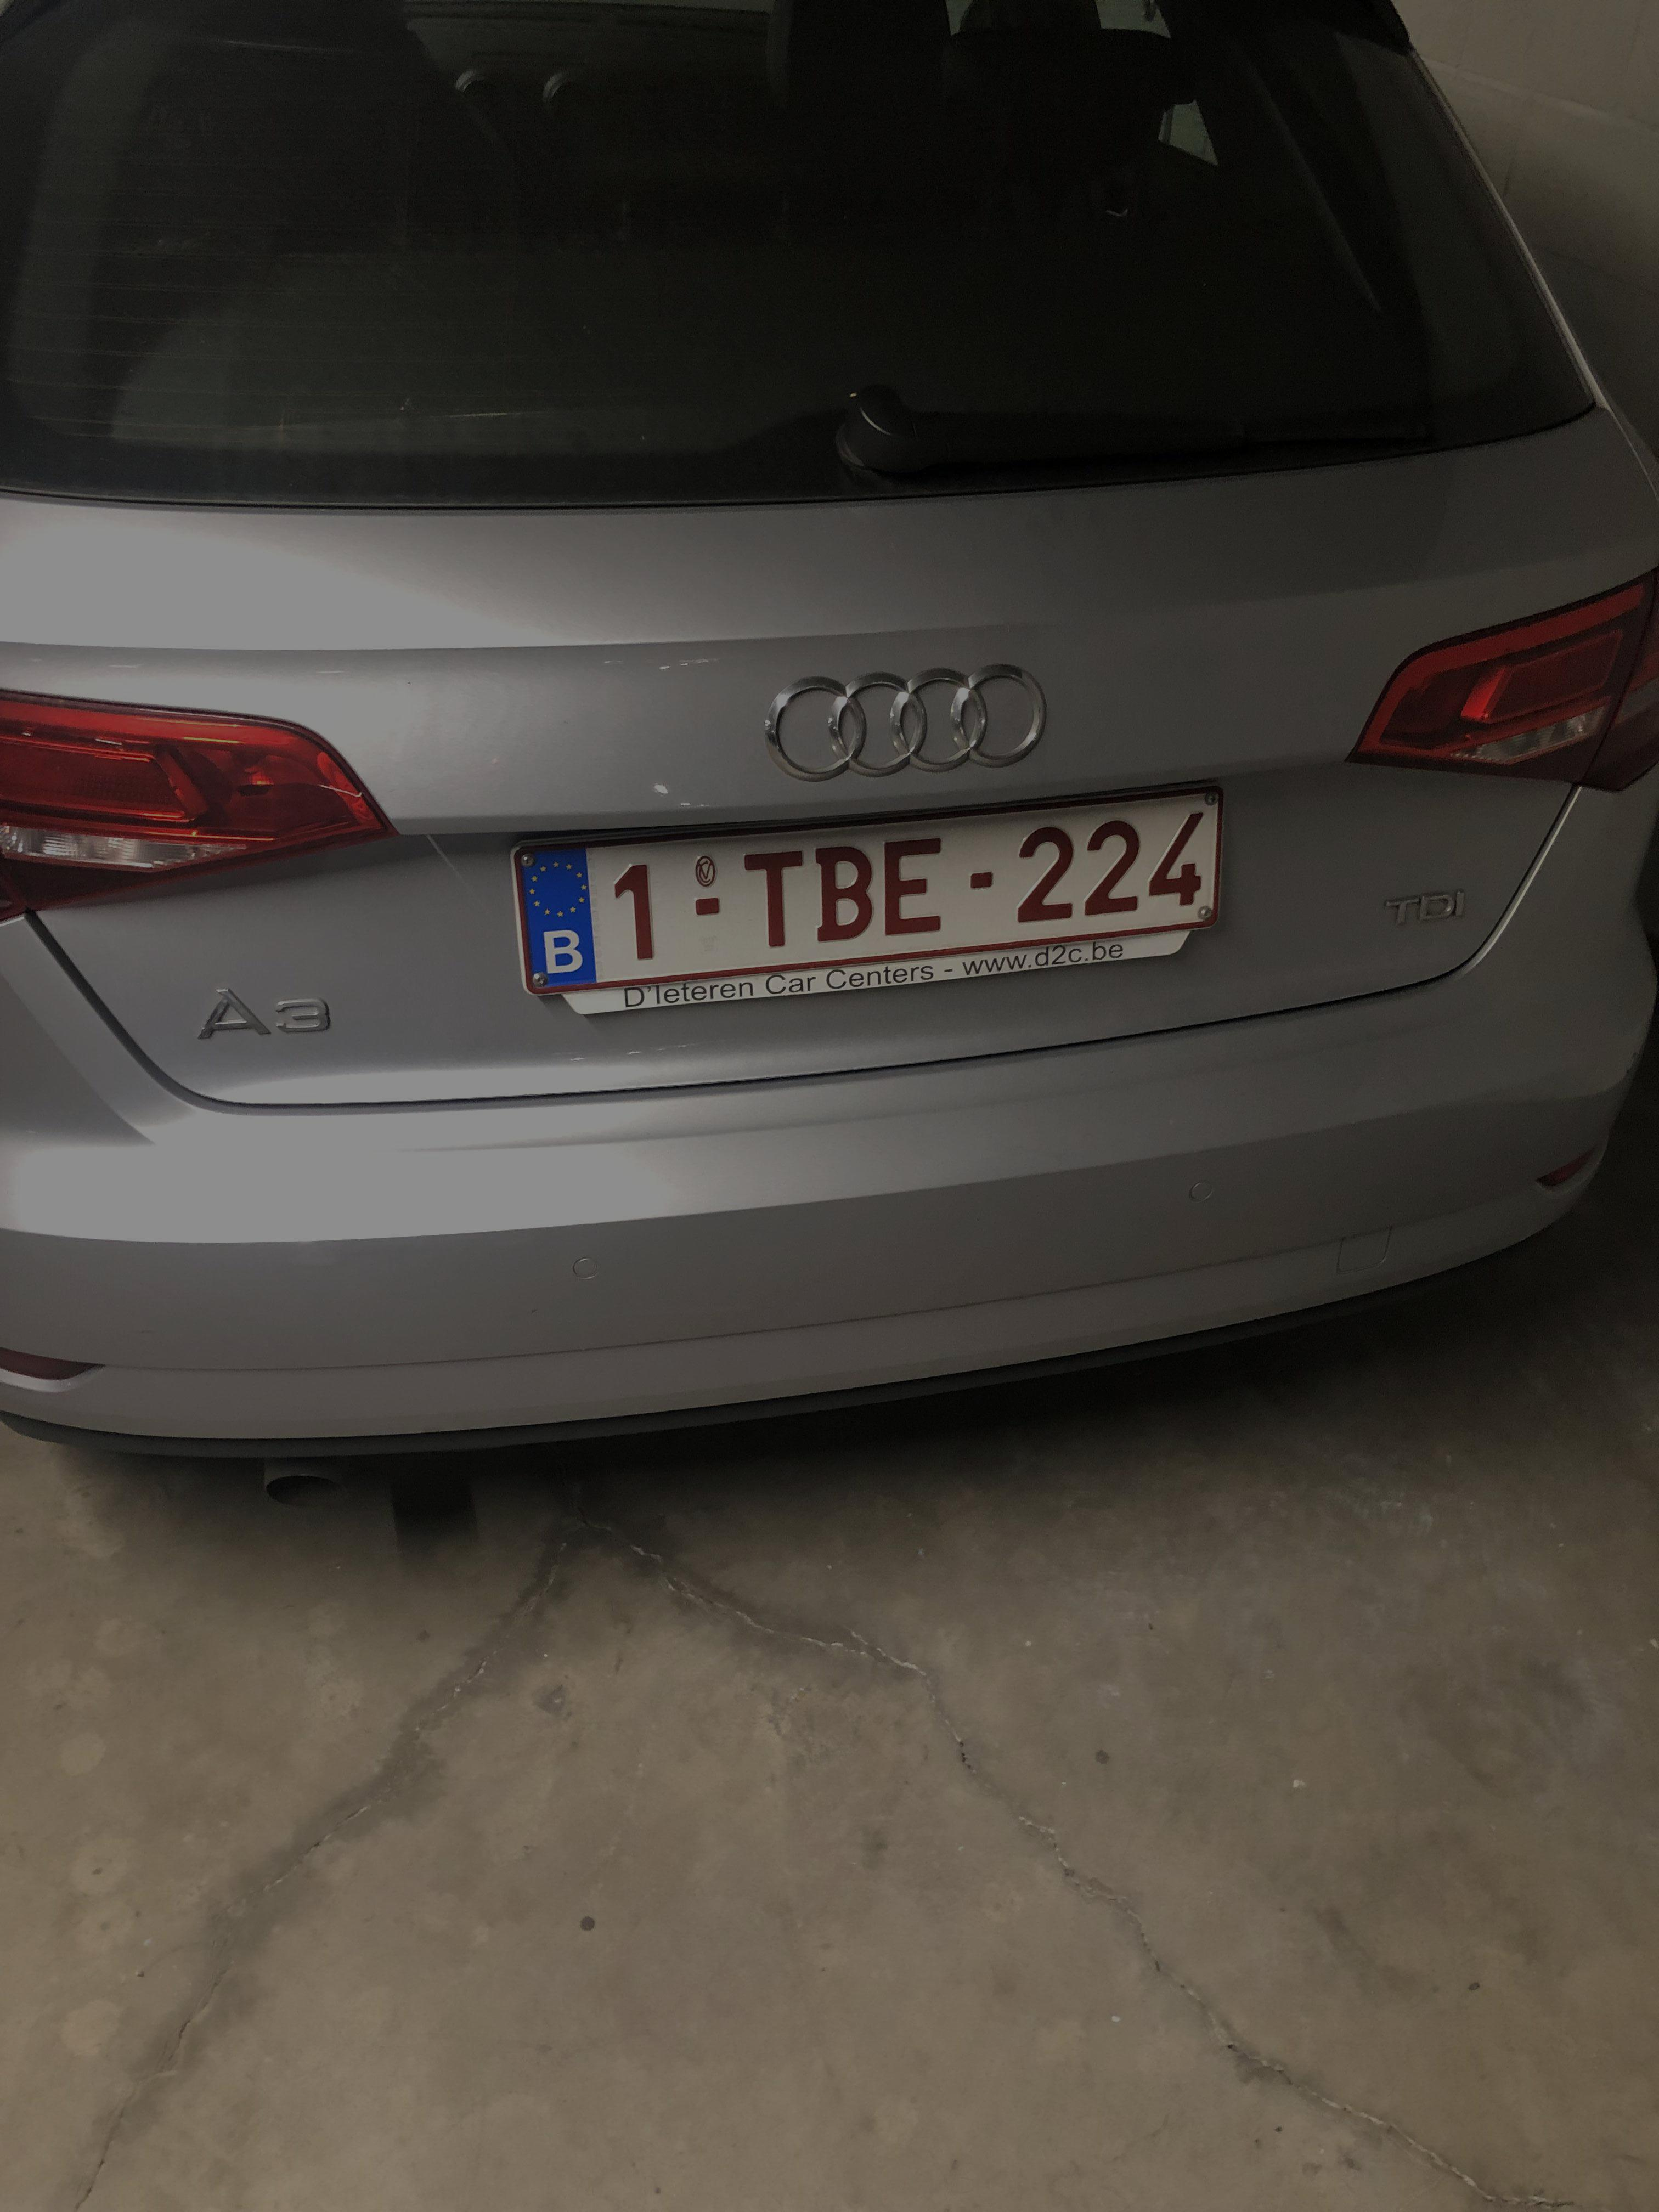plate: (489, 764, 1262, 1004)
